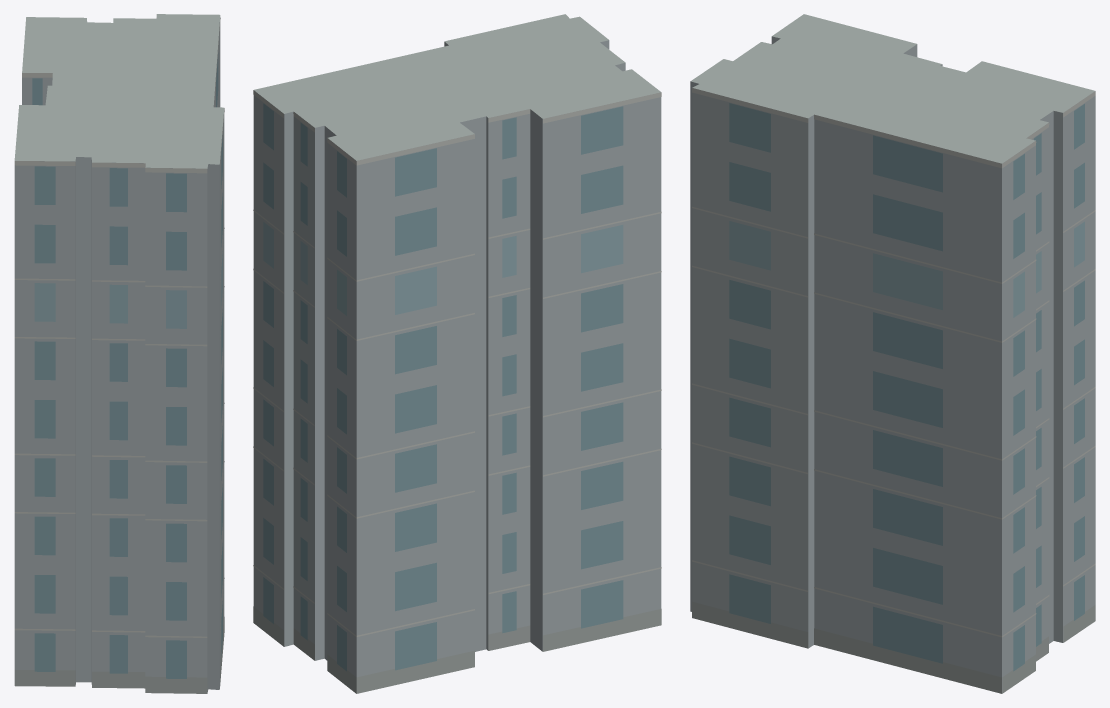
File: survey-upis-32792360.glb
3 views of the same model, side by side, from view 1: azimuth 30°, elevation 25°; view 2: azimuth 150°, elevation 25°; view 3: azimuth 270°, elevation 25° (orthographic).
Visible parts, largest first — view 1: survey-upis-32792360.tmp; view 2: survey-upis-32792360.tmp; view 3: survey-upis-32792360.tmp.
Part boxes in pixels (x1,y1,x2,y2): survey-upis-32792360.tmp: (14, 14, 224, 693); survey-upis-32792360.tmp: (253, 14, 661, 693); survey-upis-32792360.tmp: (690, 14, 1095, 693).
Bounding box in the file's own units: 16.64 × 27.45 × 19.03.
